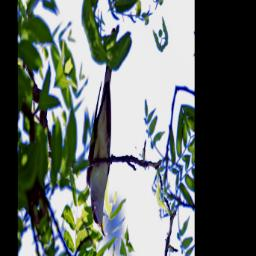Cuckoo: (59, 26, 156, 245)
